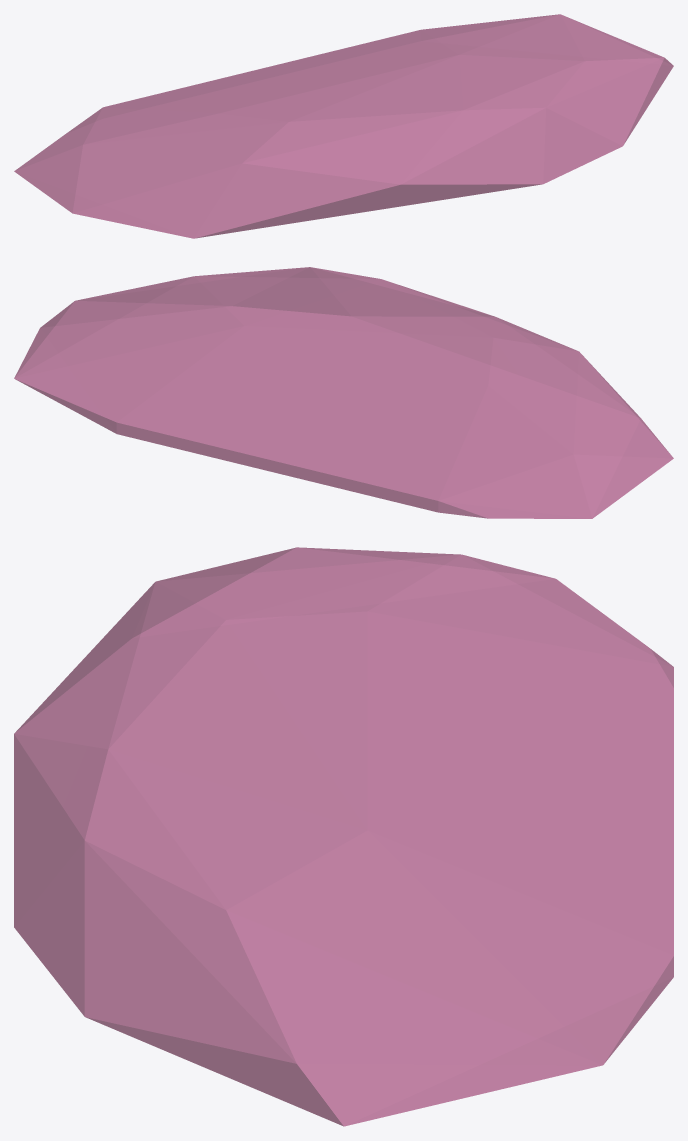
3 renders of one model, top to bottom at view 1: azimuth 30°, elevation 25°; view 2: azimuth 150°, elevation 25°; view 3: azimuth 270°, elevation 25°, orthographic. The views are drawn at different scales.
Visible parts, largest first — view 1: Shape_IndexedFaceSet.037_Shape_IndexedFaceSet.4591; view 2: Shape_IndexedFaceSet.037_Shape_IndexedFaceSet.4591; view 3: Shape_IndexedFaceSet.037_Shape_IndexedFaceSet.4591.
Boxes of the visible parts, <box> form: Shape_IndexedFaceSet.037_Shape_IndexedFaceSet.4591: <box>14,14,673,238</box>; Shape_IndexedFaceSet.037_Shape_IndexedFaceSet.4591: <box>14,267,673,518</box>; Shape_IndexedFaceSet.037_Shape_IndexedFaceSet.4591: <box>14,547,673,1126</box>.
Bounding box in the file's own units: 0.085 × 0.00911 × 0.0425.
